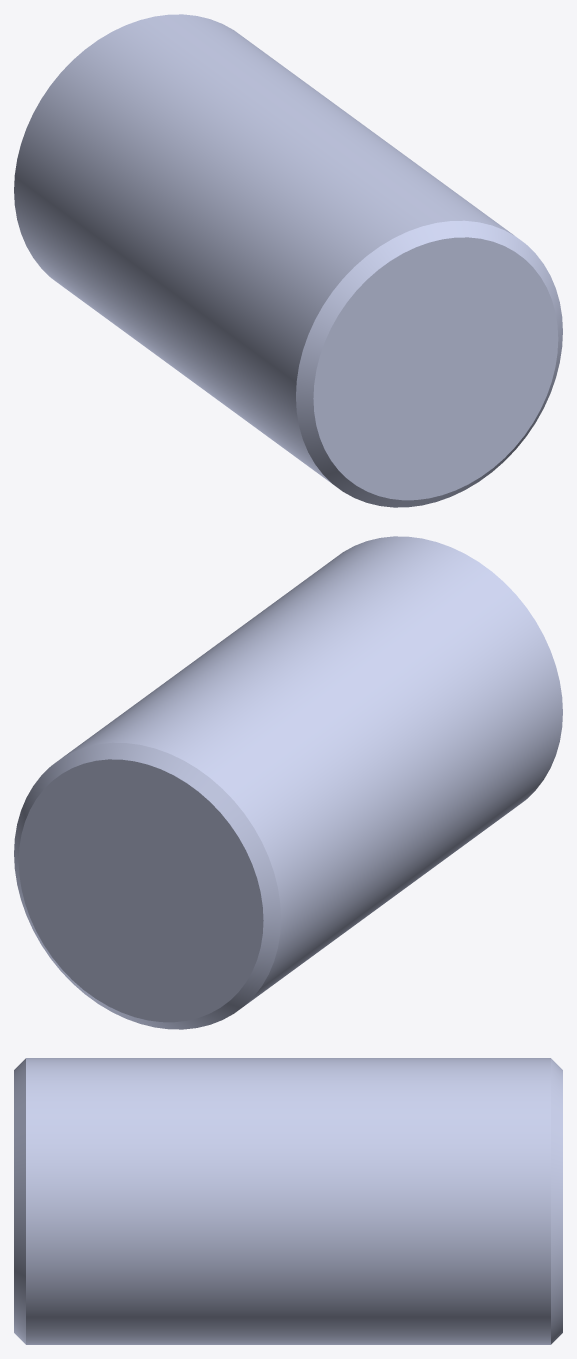
The model's file is REV_21_2103_A02_1_REV_21_2100_P04_1_solid1.obj.
The picture shows the model from 3 angles, top to bottom: view 1: azimuth 30°, elevation 25°; view 2: azimuth 150°, elevation 25°; view 3: azimuth 270°, elevation 25°; orthographic projection. The views are drawn at different scales.
Parts seen in each view (by area): view 1: mesh26653, mesh26649, mesh26652, mesh26651, mesh26650; view 2: mesh26653, mesh26656, mesh26652, mesh26655, mesh26654; view 3: mesh26653, mesh26652, mesh26651, mesh26655, mesh26650, mesh26654.
Boxes of the visible parts, x1=… form: mesh26653: x1=14, y1=14, x2=514, y2=396; mesh26649: x1=313, y1=237, x2=558, y2=500; mesh26652: x1=14, y1=190, x2=333, y2=484; mesh26651: x1=296, y1=220, x2=562, y2=398; mesh26650: x1=296, y1=332, x2=562, y2=507; mesh26653: x1=62, y1=536, x2=562, y2=918; mesh26656: x1=18, y1=759, x2=263, y2=1022; mesh26652: x1=243, y1=712, x2=562, y2=1006; mesh26655: x1=14, y1=742, x2=280, y2=920; mesh26654: x1=14, y1=854, x2=280, y2=1029; mesh26653: x1=26, y1=1058, x2=550, y2=1262; mesh26652: x1=26, y1=1262, x2=550, y2=1344; mesh26651: x1=14, y1=1058, x2=25, y2=1261; mesh26655: x1=551, y1=1058, x2=562, y2=1261; mesh26650: x1=14, y1=1257, x2=25, y2=1344; mesh26654: x1=551, y1=1257, x2=562, y2=1344.
Bounding box in the file's own units: 0.006 × 0.00599 × 0.0115.
